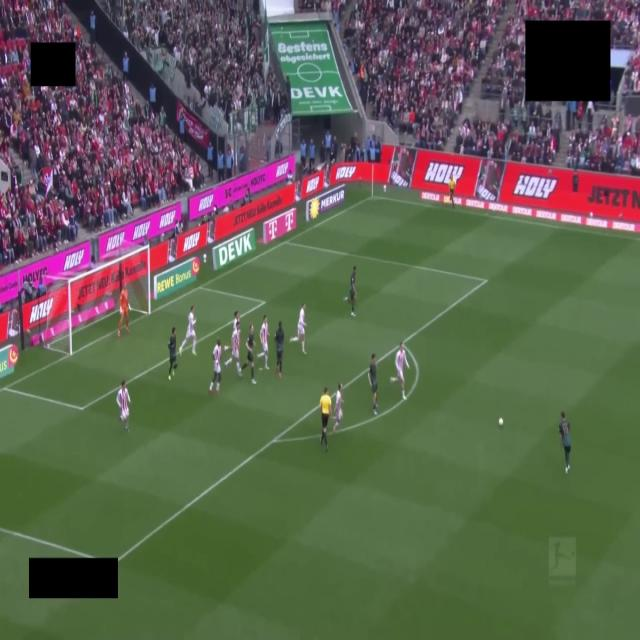ball: (498, 418, 503, 426)
player: (391, 343, 409, 399), (225, 320, 241, 376), (242, 325, 256, 384), (290, 304, 306, 354), (180, 306, 196, 355), (559, 412, 571, 473), (209, 340, 222, 395), (117, 380, 130, 431), (344, 266, 356, 317), (368, 353, 377, 415), (258, 315, 268, 369), (118, 288, 129, 337), (275, 321, 284, 378), (168, 328, 177, 381), (334, 384, 343, 432), (232, 311, 239, 331)
referee: (320, 388, 331, 451)
